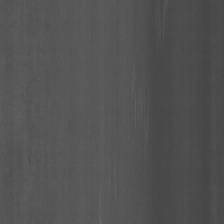silk_spot: (124, 62, 153, 149)
